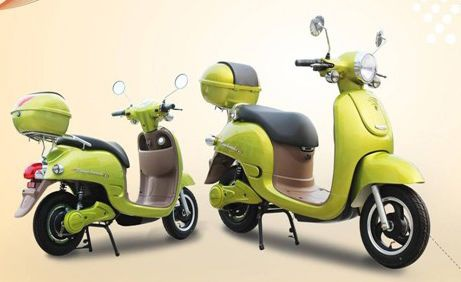non-vehicle: (195, 32, 436, 271), (11, 74, 212, 256)
